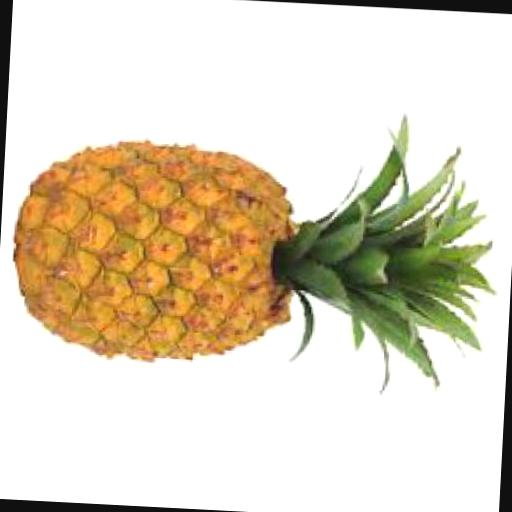biodegradable: (3, 91, 512, 388), (10, 136, 306, 366), (276, 106, 508, 393)
